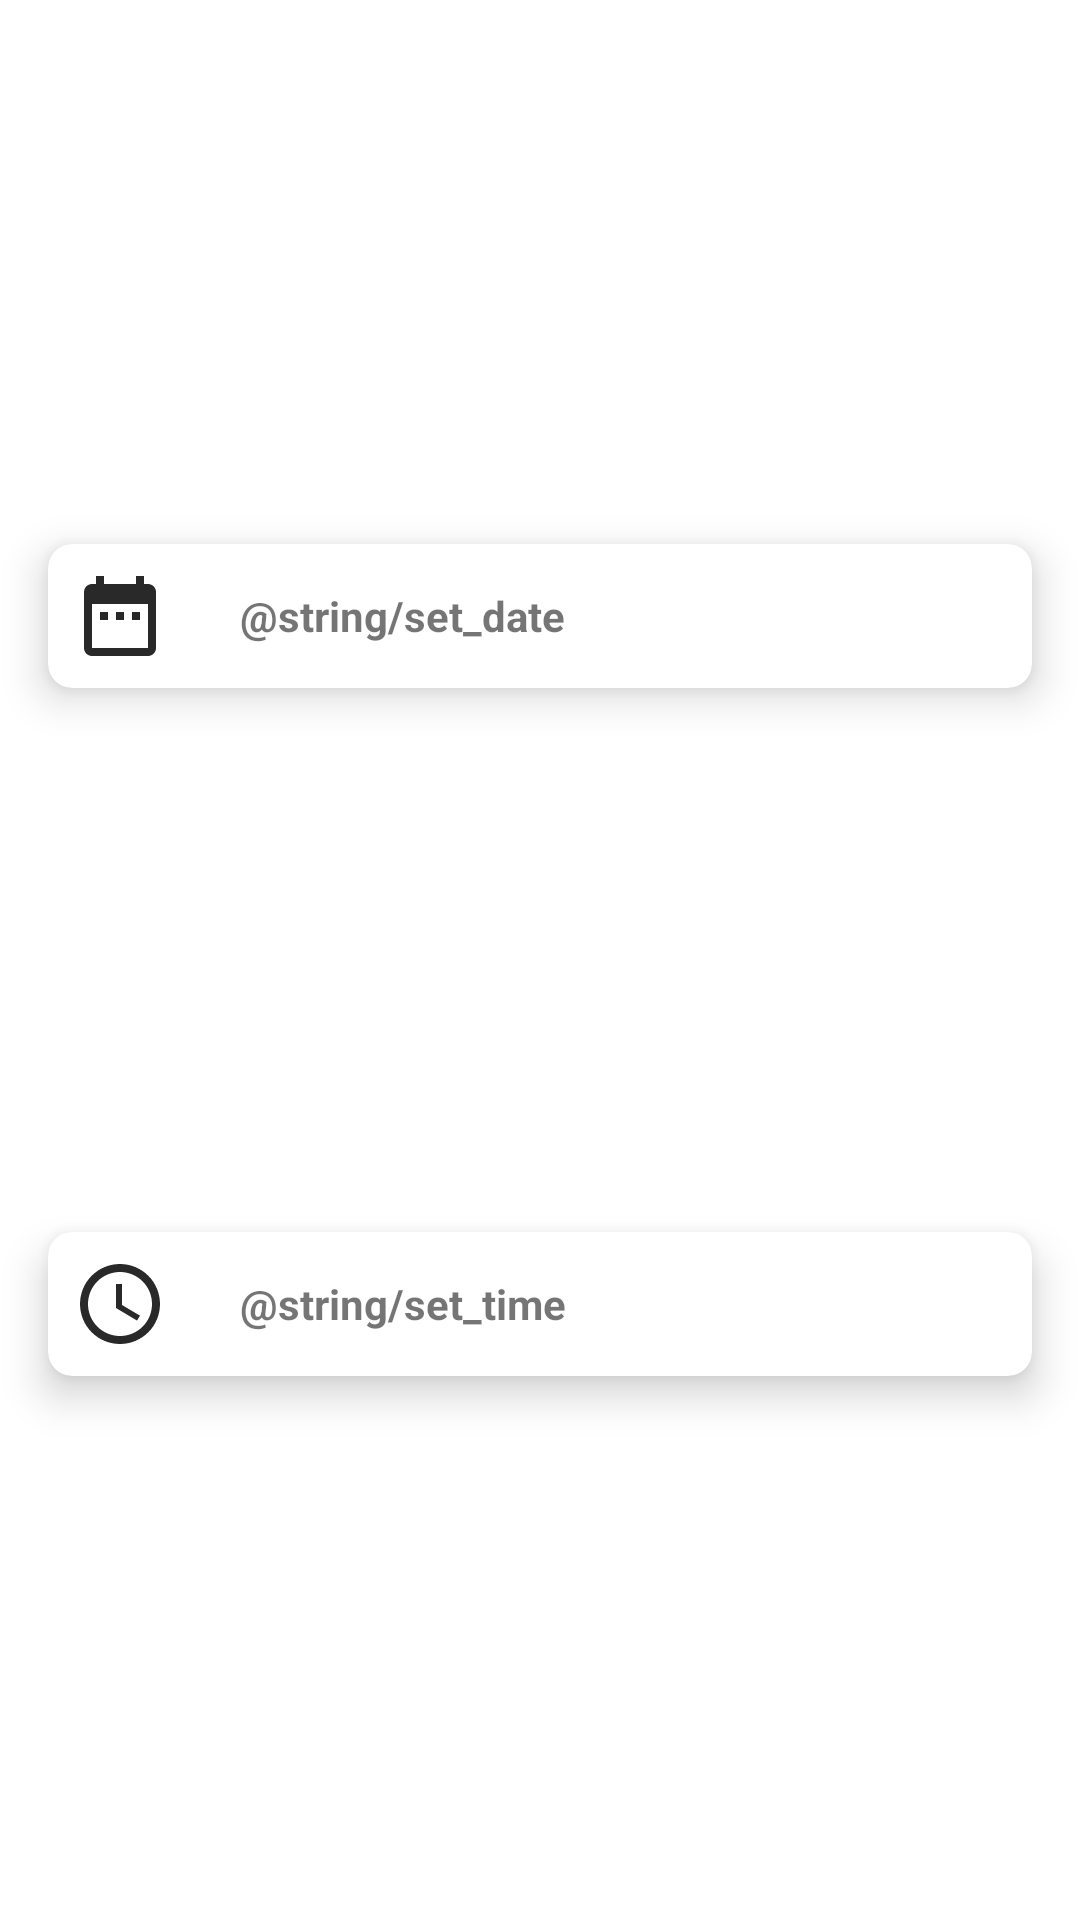

Icons on this 1080x1920 Android screen, each with its box as (x1,y1,x2,y2):
access time: (80,1264,160,1344)
date range: (84,576,156,656)
